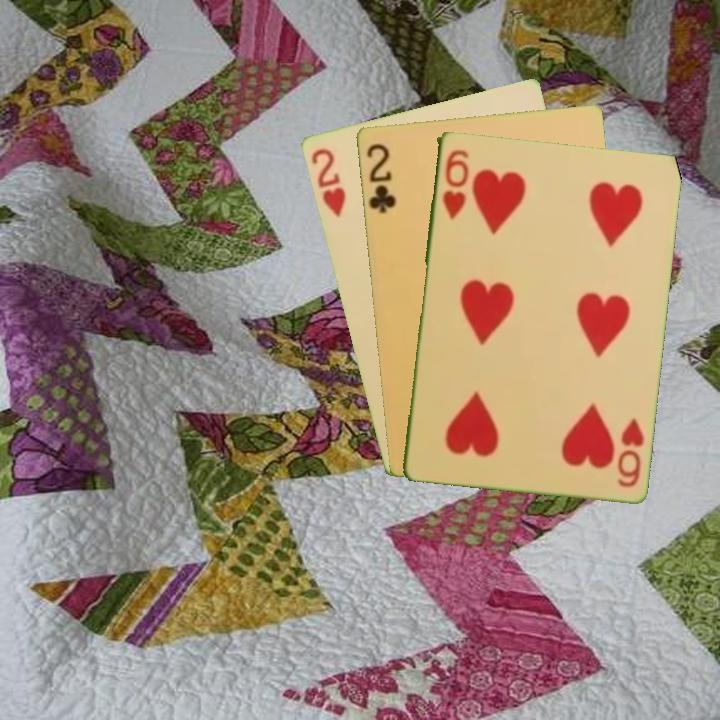2c: (362, 139, 398, 216)
2h: (307, 144, 348, 220)
6h: (613, 414, 647, 490), (439, 145, 471, 222)
